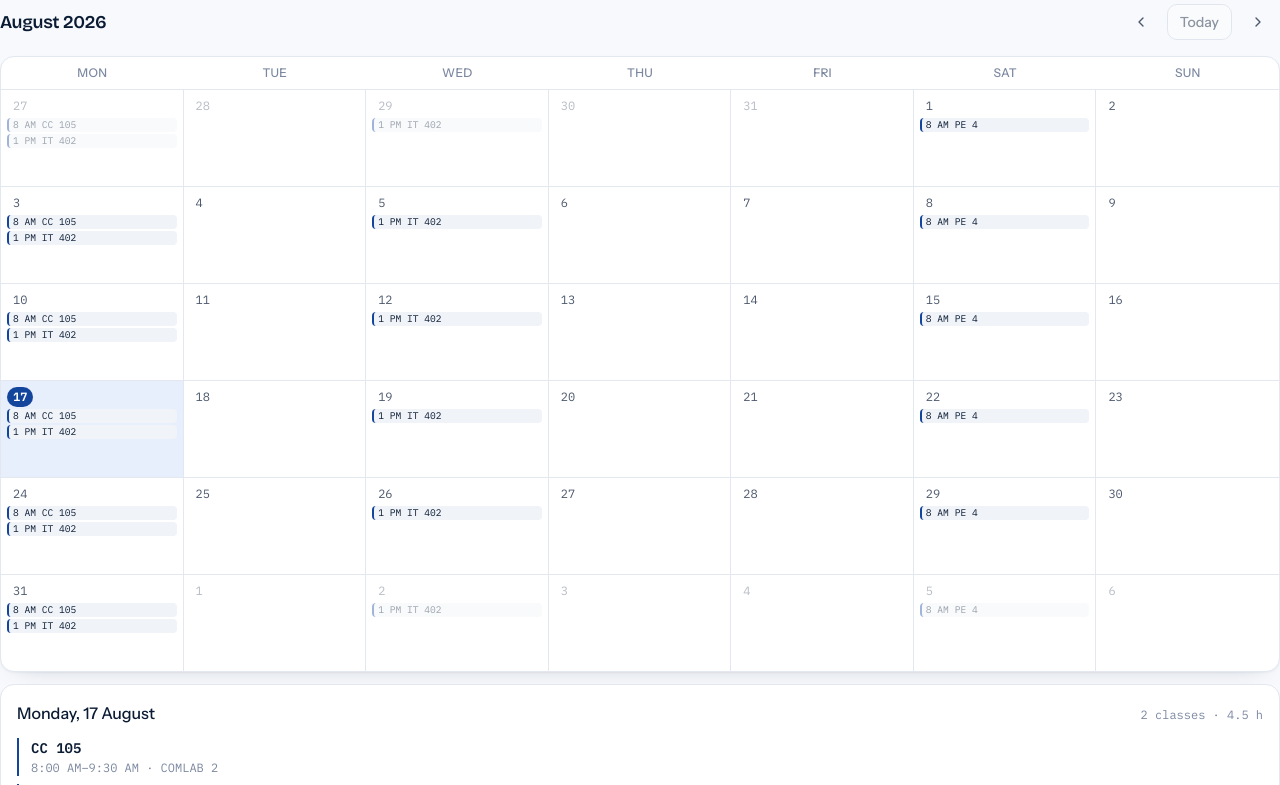
Test: moving around › steps a month at a time, and back to today
Click the button named "Next month". click: [1258, 22]
box: [1236,0,1279,44]
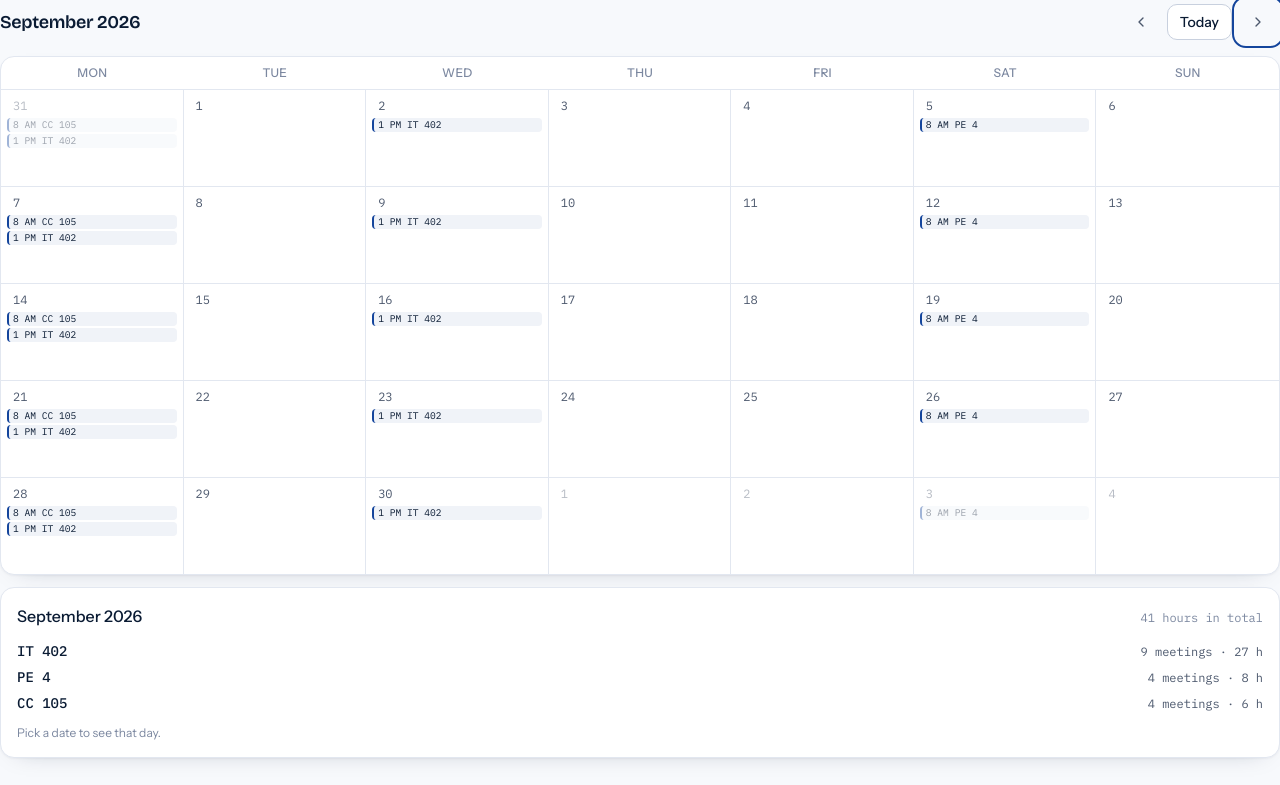
Expected: the heading "September 2026" is shown, [0,8,140,36]
Click the button named "Previous month". click: [1141, 22]
box: [1119,0,1163,44]
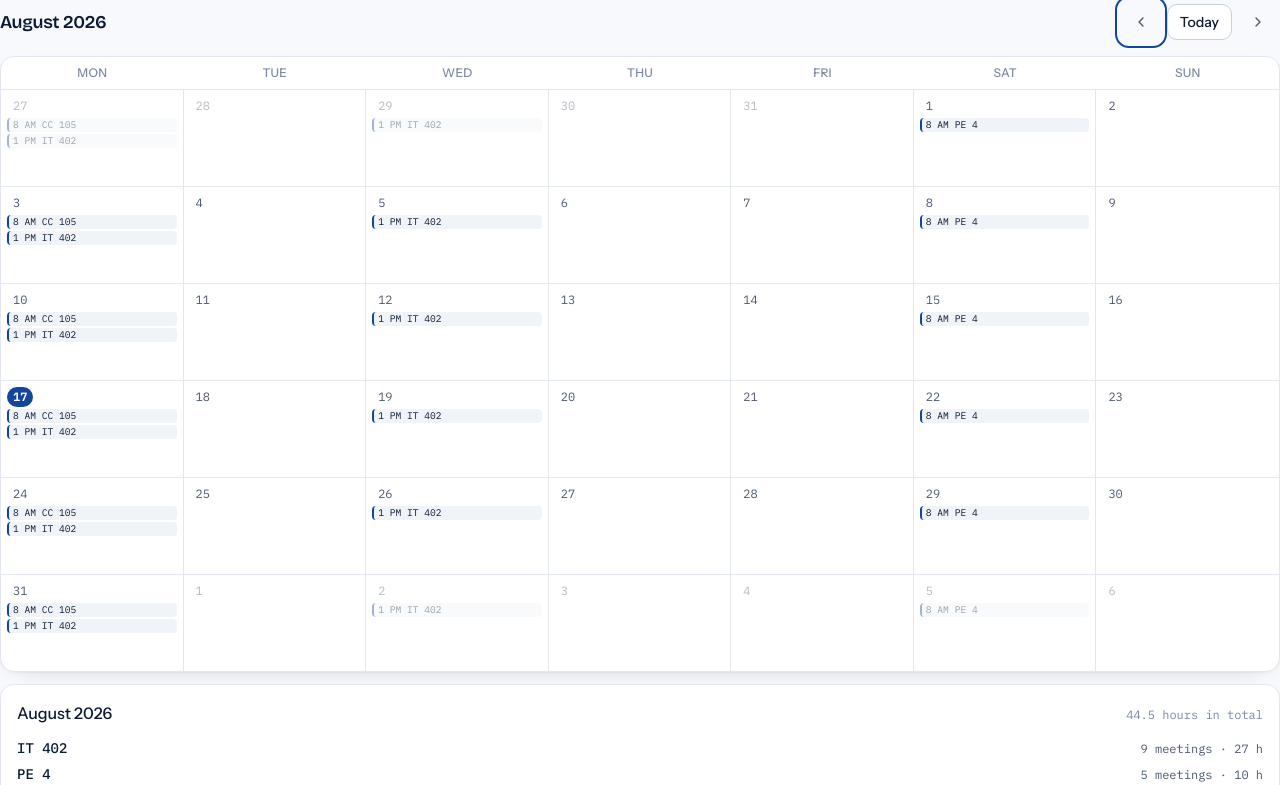
Click the button named "Previous month". click: [1141, 22]
box: [1119,0,1163,44]
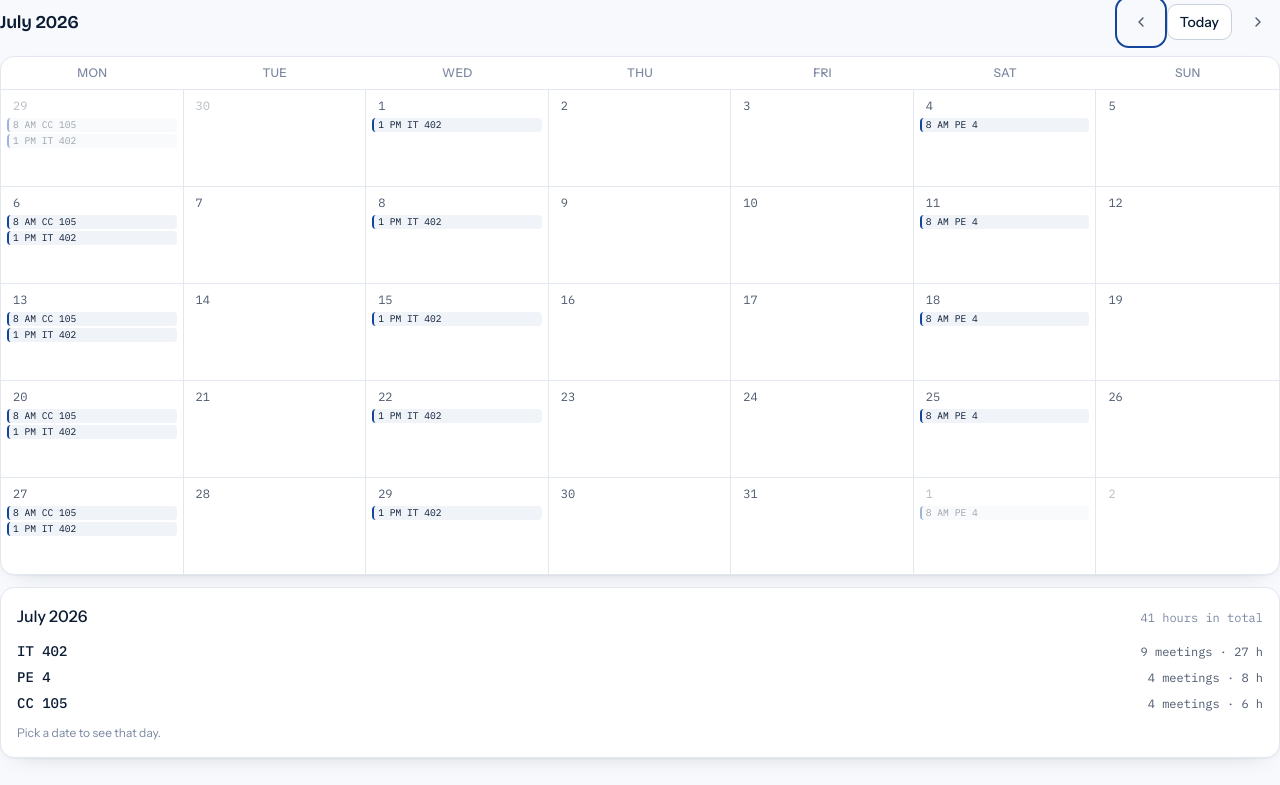
Expected: the heading "July 2026" is shown, [0,8,79,36]
Click the button "Today". click: [1199, 22]
box: [1167,4,1232,40]
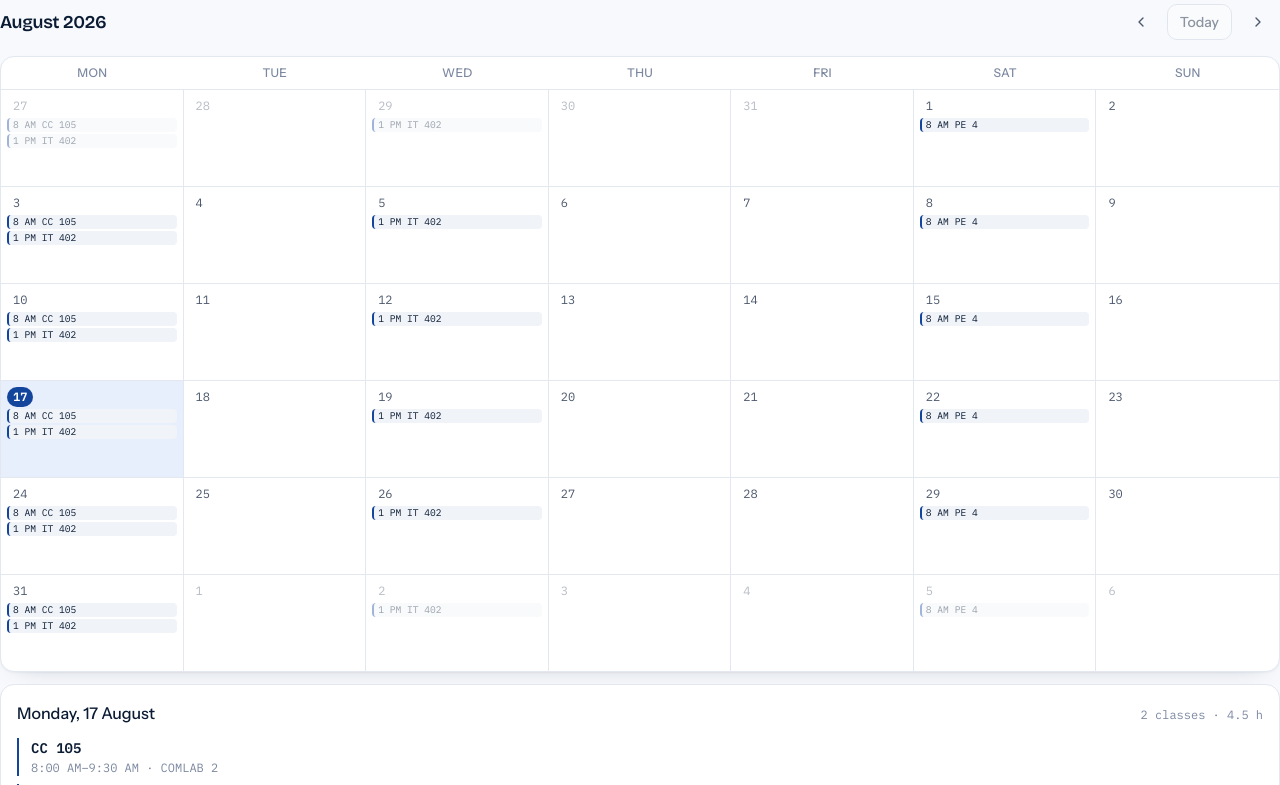
Expected: the heading "August 2026" is shown, [0,8,106,36]
Expected: the text "Monday, 17 August" is shown, [17,701,155,726]
